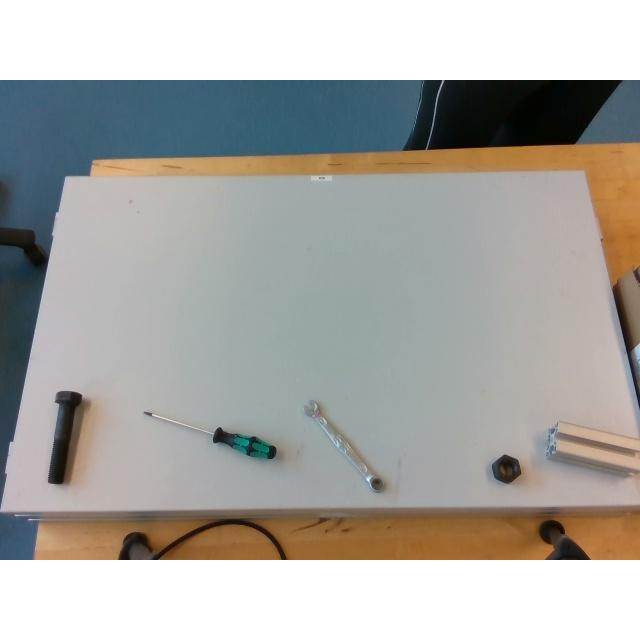M20: (492, 453, 520, 482)
M20_100: (48, 392, 82, 484)
S40_40_G: (546, 421, 640, 473)
Screwdriver: (144, 411, 276, 459)
Wrench: (304, 400, 384, 492)
